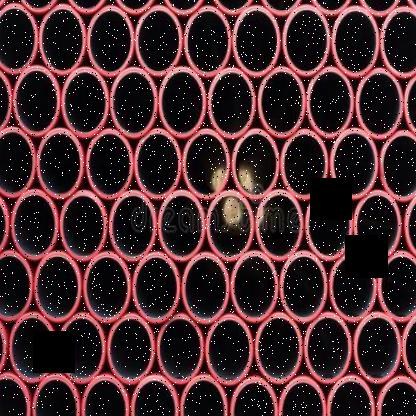pipe: (303, 311, 352, 384), (204, 313, 254, 384), (207, 67, 256, 139), (35, 127, 84, 199), (255, 188, 304, 260), (304, 188, 353, 260), (279, 250, 328, 322), (180, 252, 229, 324), (306, 66, 354, 139), (134, 127, 182, 200), (86, 128, 134, 201), (38, 3, 86, 76), (329, 128, 378, 199), (107, 314, 156, 385), (258, 66, 306, 138), (158, 66, 206, 138), (182, 128, 230, 200), (206, 190, 254, 262), (34, 250, 82, 322), (83, 251, 131, 323), (133, 251, 181, 323), (184, 5, 232, 77), (109, 68, 158, 138), (10, 189, 59, 259), (356, 68, 404, 139), (232, 128, 280, 199), (281, 129, 329, 200), (329, 251, 377, 322), (254, 312, 302, 383), (58, 312, 106, 383), (282, 5, 330, 76), (86, 5, 134, 76), (232, 5, 280, 76), (332, 5, 380, 76), (230, 250, 277, 322), (60, 67, 108, 137), (354, 190, 402, 260), (108, 190, 156, 260), (158, 190, 206, 260), (60, 190, 108, 260), (9, 312, 57, 382), (156, 315, 204, 385), (354, 312, 401, 383), (135, 5, 182, 76), (13, 65, 59, 136), (377, 252, 416, 322), (0, 3, 38, 74), (379, 129, 416, 200), (0, 127, 36, 198), (380, 7, 416, 78), (0, 249, 32, 320), (31, 373, 80, 416), (81, 375, 130, 416), (179, 375, 228, 416), (131, 373, 177, 416), (327, 376, 376, 416), (278, 376, 326, 416), (230, 376, 278, 416), (377, 375, 416, 416), (0, 372, 31, 416), (401, 311, 416, 383), (404, 189, 416, 261), (404, 68, 416, 139), (0, 67, 12, 137), (258, 0, 307, 16), (354, 0, 402, 16), (160, 0, 208, 16), (14, 0, 63, 14), (307, 0, 355, 14), (111, 0, 159, 14), (208, 0, 256, 14), (0, 188, 9, 259), (62, 0, 110, 13), (0, 312, 8, 382)
